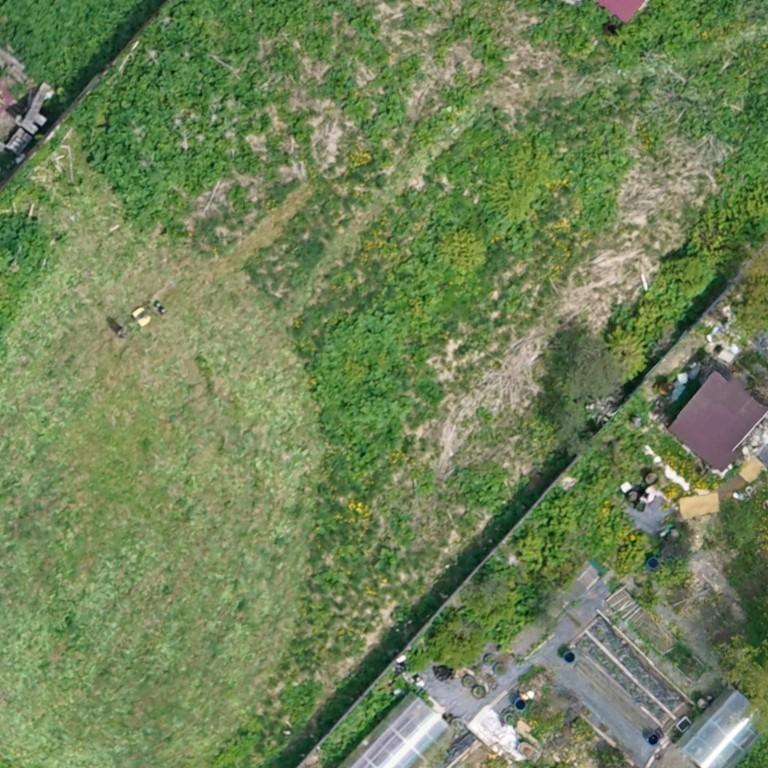hogweed: (79, 0, 268, 228), (0, 0, 159, 110), (306, 313, 408, 471), (685, 45, 767, 178), (625, 0, 737, 56), (566, 133, 630, 220), (253, 0, 335, 59), (518, 0, 606, 50), (397, 217, 445, 304), (0, 215, 47, 277), (344, 3, 386, 66), (320, 63, 368, 118), (454, 18, 500, 61), (365, 90, 403, 139), (457, 468, 504, 504), (268, 43, 298, 73)
